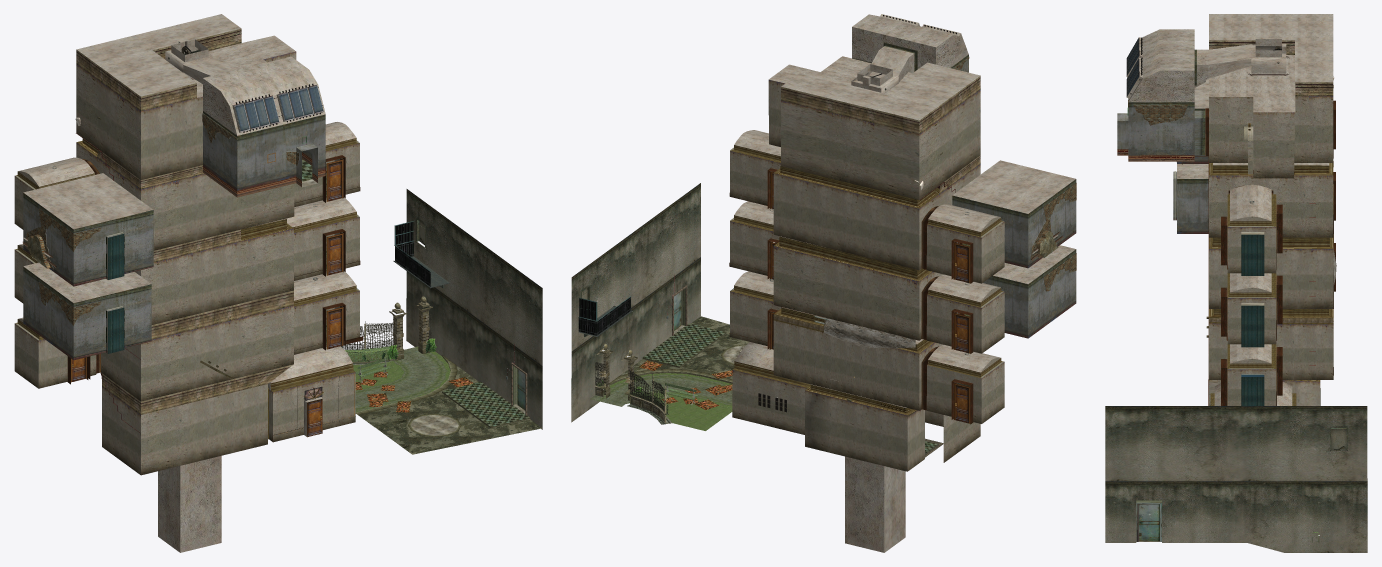
The model's file is paris1a.fbx.
The picture shows the model from 3 angles, left to right: view 1: azimuth 30°, elevation 25°; view 2: azimuth 150°, elevation 25°; view 3: azimuth 270°, elevation 25°; orthographic projection. The views are drawn at different scales.
Parts seen in each view (by area): view 1: ROOM_15, ROOM_3, ROOM_0, ROOM_4, ROOM_1, ROOM_16, ROOM_6, ROOM_2, ROOM_7, ROOM_9, ROOM_14, ROOM_12 (+5 smaller); view 2: ROOM_3, ROOM_15, ROOM_0, ROOM_7, ROOM_2, ROOM_16, ROOM_1, ROOM_6, ROOM_9, ROOM_10, ROOM_8, ROOM_5 (+5 smaller); view 3: ROOM_16, ROOM_3, ROOM_15, ROOM_4, ROOM_7, ROOM_2, ROOM_11, ROOM_1, ROOM_12, ROOM_13, ROOM_9, ROOM_0 (+1 smaller).
Boxes of the visible parts, x1,y1,x2,y2 form: ROOM_15: (341, 272, 542, 454); ROOM_3: (75, 14, 296, 183); ROOM_0: (101, 346, 408, 475); ROOM_4: (202, 56, 325, 197); ROOM_1: (98, 298, 293, 404); ROOM_16: (393, 189, 542, 370); ROOM_6: (22, 173, 153, 286); ROOM_2: (135, 222, 293, 332); ROOM_7: (76, 138, 294, 256); ROOM_9: (23, 262, 151, 360); ROOM_14: (158, 456, 221, 552); ROOM_12: (286, 197, 360, 280); ROOM_3: (768, 49, 980, 200); ROOM_15: (571, 262, 749, 430); ROOM_0: (705, 342, 980, 471); ROOM_7: (773, 159, 980, 272); ROOM_2: (773, 240, 943, 346); ROOM_16: (571, 183, 700, 355); ROOM_1: (773, 309, 944, 410); ROOM_6: (952, 160, 1076, 268); ROOM_9: (957, 245, 1076, 338); ROOM_10: (924, 345, 1004, 424); ROOM_8: (925, 204, 1003, 283); ROOM_5: (925, 274, 1003, 353); ROOM_16: (1105, 406, 1367, 485); ROOM_3: (1205, 14, 1334, 178); ROOM_15: (1105, 486, 1367, 552); ROOM_4: (1117, 29, 1205, 161); ROOM_7: (1195, 156, 1333, 240); ROOM_2: (1208, 184, 1336, 313); ROOM_11: (1221, 184, 1282, 275); ROOM_1: (1206, 284, 1334, 379); ROOM_12: (1221, 273, 1282, 347); ROOM_13: (1221, 344, 1282, 405); ROOM_9: (1173, 164, 1208, 233); ROOM_0: (1208, 376, 1320, 405).
Bounding box in the file's own units: 11279 × 5992 × 12045.
137 materials, 136 textured.
